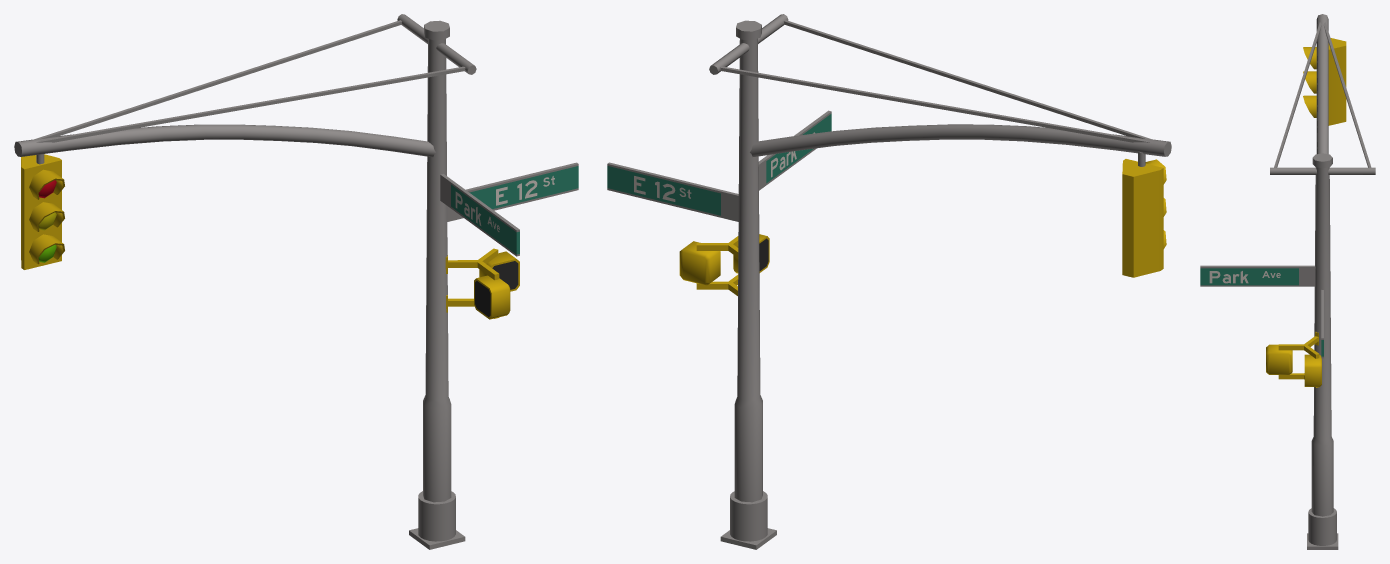
Rendered from Traffic Light.glb.
3 renders of one model, left to right at view 1: azimuth 30°, elevation 25°; view 2: azimuth 150°, elevation 25°; view 3: azimuth 270°, elevation 25°, orthographic. The views are drawn at different scales.
Parts seen in each view (by area): view 1: TrafficLight_2; view 2: TrafficLight_2; view 3: TrafficLight_2.
Part boxes in pixels (x1,y1,x2,y2): TrafficLight_2: [14, 14, 578, 549]; TrafficLight_2: [607, 14, 1171, 549]; TrafficLight_2: [1200, 14, 1375, 549].
Size of the model in its own units: 5.34 by 4.66 by 1.92.
1 material, 1 textured.
